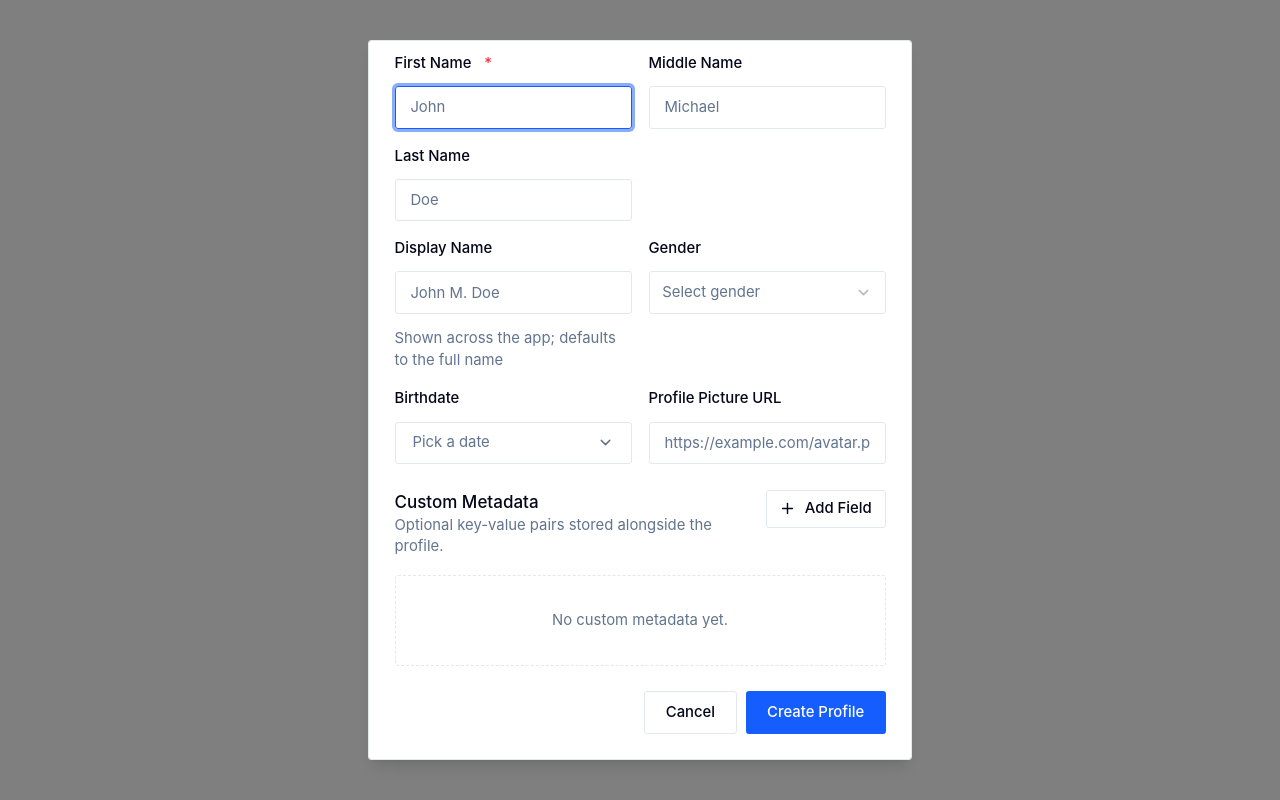
it: ProfileFormDialog › shows a validation error when first name is blank
(page scrolled)
Click the button "Create Profile" at (816, 713), box [746,691,886,734]
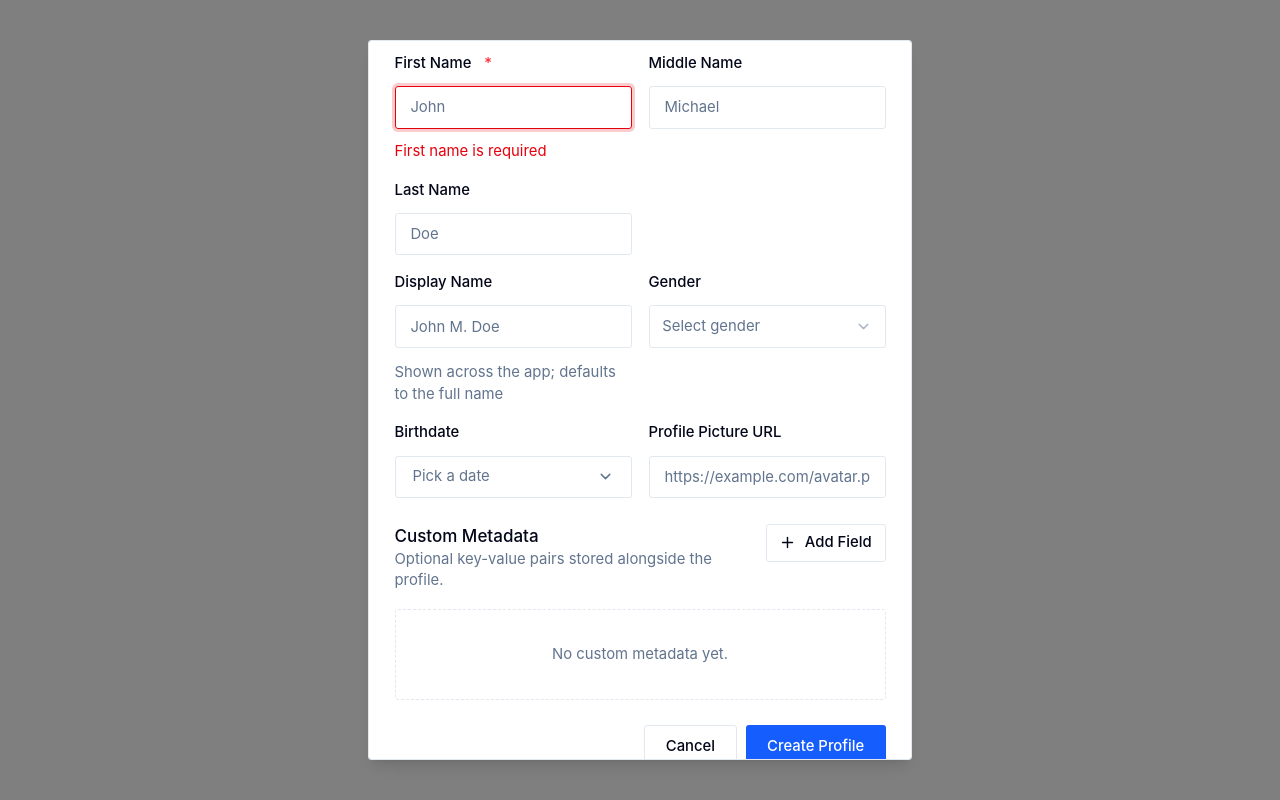
Check: the text "First name is required" is shown, box [394,142,547,160]
